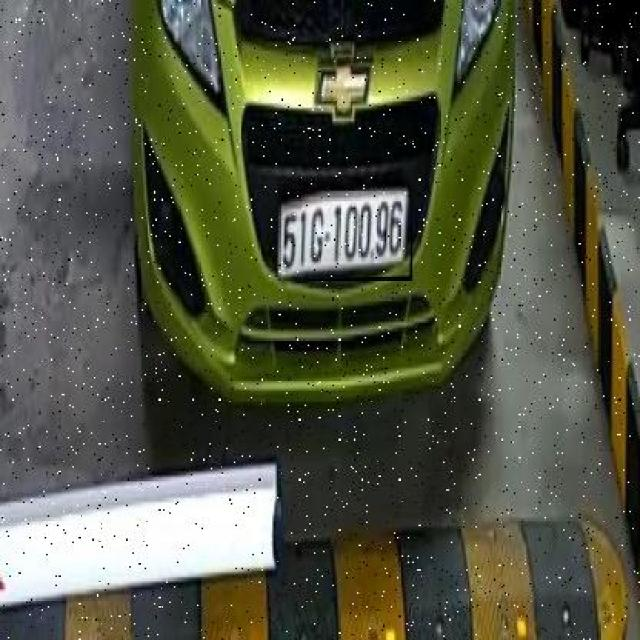number_plate: (278, 191, 413, 280)
